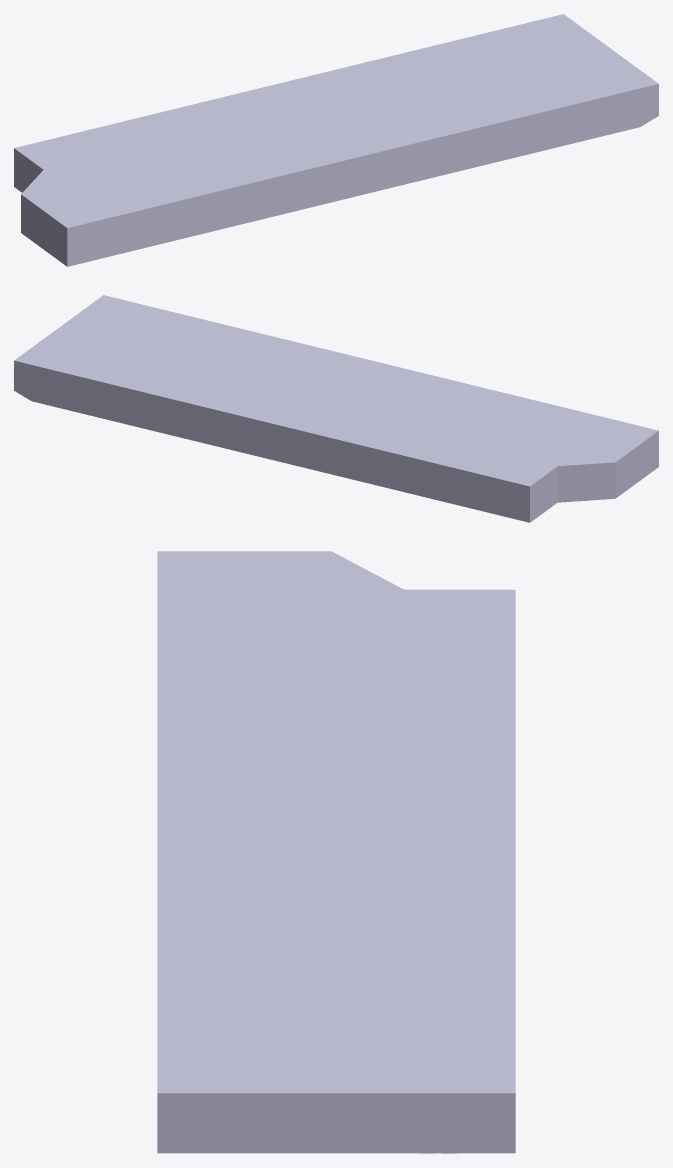
Rendered from HOUSE_R.obj.
3 renders of one model, top to bottom at view 1: azimuth 30°, elevation 25°; view 2: azimuth 150°, elevation 25°; view 3: azimuth 270°, elevation 25°, orthographic. The views are drawn at different scales.
Parts seen in each view (by area): view 1: SCX2000-3_HOUSE_R_000_1-HSC_SCX2000-3_HOUSE_R (Meshed); view 2: SCX2000-3_HOUSE_R_000_1-HSC_SCX2000-3_HOUSE_R (Meshed); view 3: SCX2000-3_HOUSE_R_000_1-HSC_SCX2000-3_HOUSE_R (Meshed).
Boxes of the visible parts, bbox=[...] form: SCX2000-3_HOUSE_R_000_1-HSC_SCX2000-3_HOUSE_R (Meshed): bbox=[14, 14, 658, 266]; SCX2000-3_HOUSE_R_000_1-HSC_SCX2000-3_HOUSE_R (Meshed): bbox=[14, 295, 658, 522]; SCX2000-3_HOUSE_R_000_1-HSC_SCX2000-3_HOUSE_R (Meshed): bbox=[157, 551, 515, 1153].
Size of the model in its own units: 3804 by 240 by 1062.
